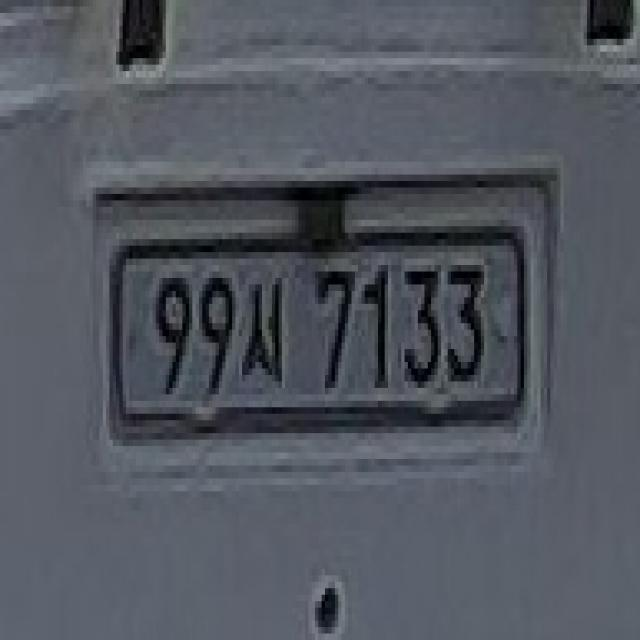1: (359, 260, 400, 412)
3: (402, 260, 446, 410), (448, 258, 492, 408)
7: (310, 260, 356, 408)
9: (148, 270, 194, 408), (198, 267, 240, 409)
license_plate: (103, 221, 529, 455)
seo: (241, 268, 291, 411)
